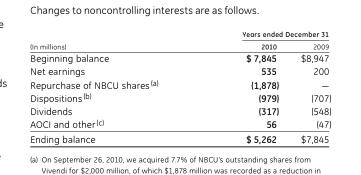table: (29, 29, 330, 144)
table column: (29, 29, 199, 144), (199, 29, 289, 144), (289, 29, 330, 144)
table column header: (29, 29, 330, 51)
table row: (29, 116, 330, 130), (29, 130, 330, 144), (29, 51, 330, 64), (29, 64, 330, 77), (29, 77, 330, 90), (29, 90, 330, 103), (29, 103, 330, 116), (29, 39, 330, 51), (29, 29, 330, 39)
table spanning cell: (29, 29, 199, 51), (199, 29, 330, 39)
